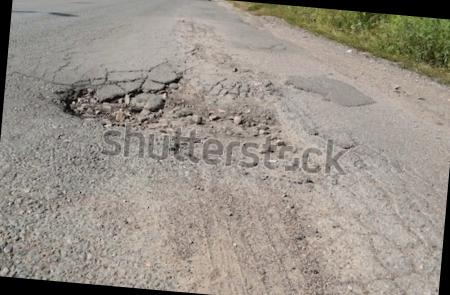pothole: (38, 53, 334, 194)
